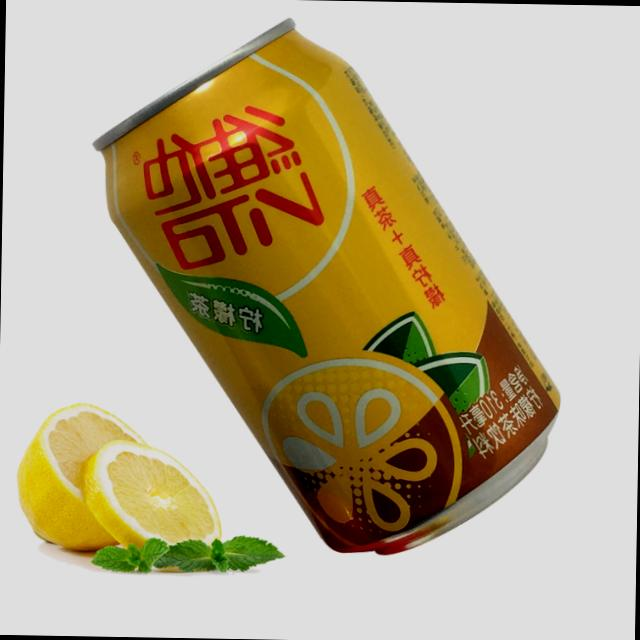can: (86, 9, 571, 560)
